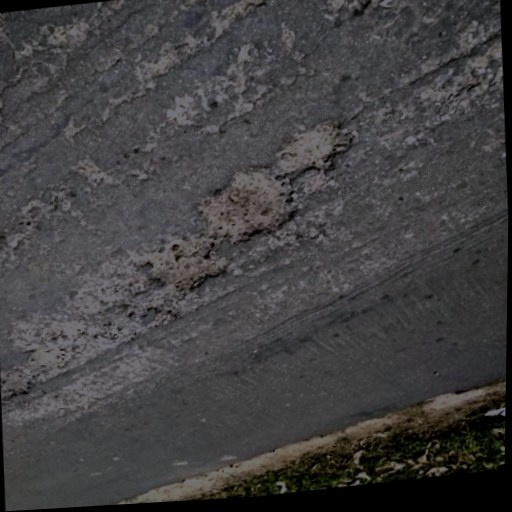pothole: (0, 315, 103, 406), (193, 163, 300, 248), (140, 230, 229, 302), (275, 115, 352, 179)
